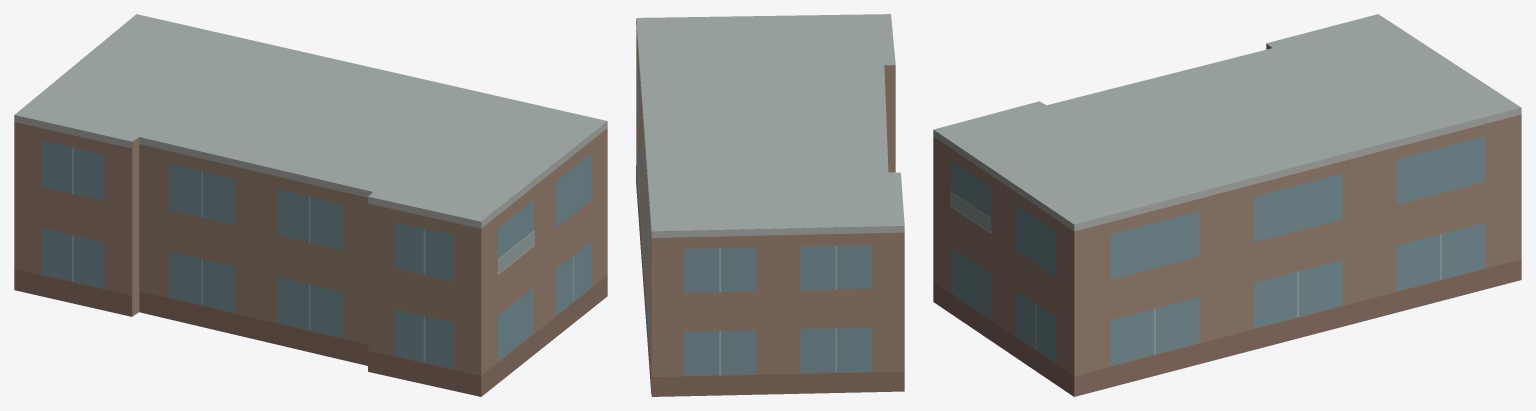
The model's file is survey-upis-32679040.glb.
3 renders of one model, left to right at view 1: azimuth 30°, elevation 25°; view 2: azimuth 150°, elevation 25°; view 3: azimuth 270°, elevation 25°, orthographic. The views are drawn at different scales.
Visible parts, largest first — view 1: survey-upis-32679040.tmp; view 2: survey-upis-32679040.tmp; view 3: survey-upis-32679040.tmp.
Boxes of the visible parts, x1,y1,x2,y2 form: survey-upis-32679040.tmp: (14, 14, 607, 396); survey-upis-32679040.tmp: (636, 14, 904, 396); survey-upis-32679040.tmp: (933, 14, 1521, 396).
Bounding box in the file's own units: 16 × 6.1 × 18.88.
